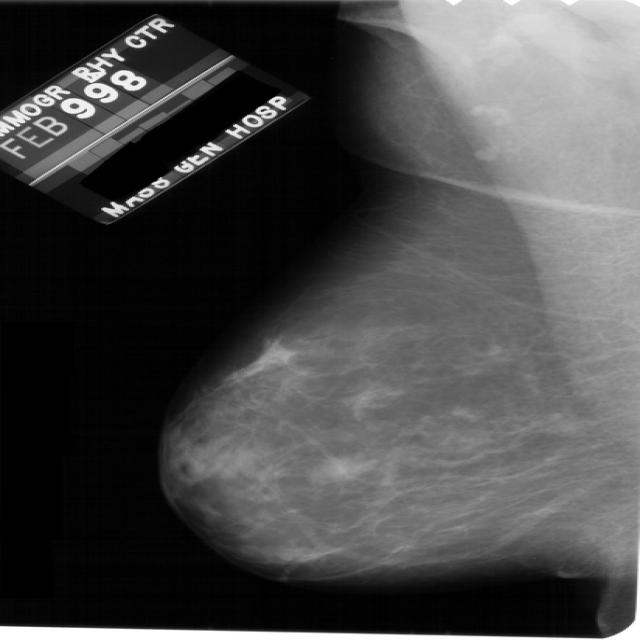tumour: (306, 454, 365, 484)
